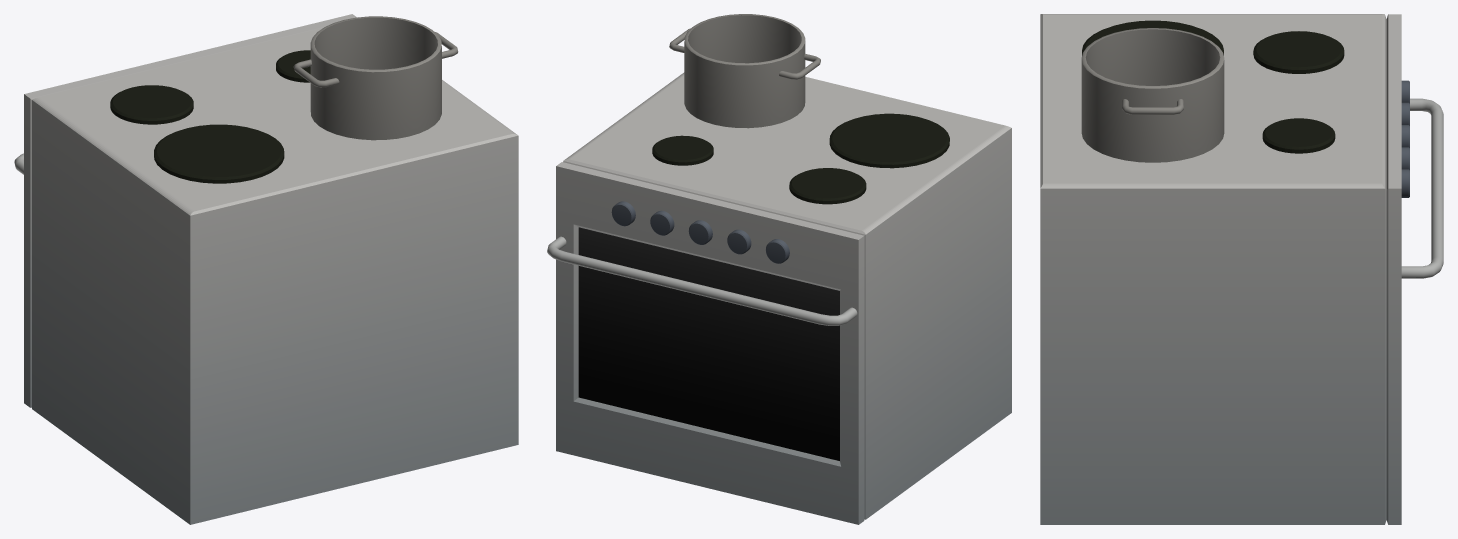
The model's file is Oven.gltf.
3 views of the same model, side by side, from view 1: azimuth 30°, elevation 25°; view 2: azimuth 150°, elevation 25°; view 3: azimuth 270°, elevation 25° (orthographic). The views are drawn at different scales.
Parts seen in each view (by area): view 1: Oven; view 2: Oven; view 3: Oven.
Boxes of the visible parts, x1=… form: Oven: x1=14, y1=14, x2=518, y2=524; Oven: x1=547, y1=14, x2=1011, y2=524; Oven: x1=1040, y1=14, x2=1443, y2=524.
Size of the model in its own units: 1 by 1.12 by 0.9782.
1 material, 1 textured.
